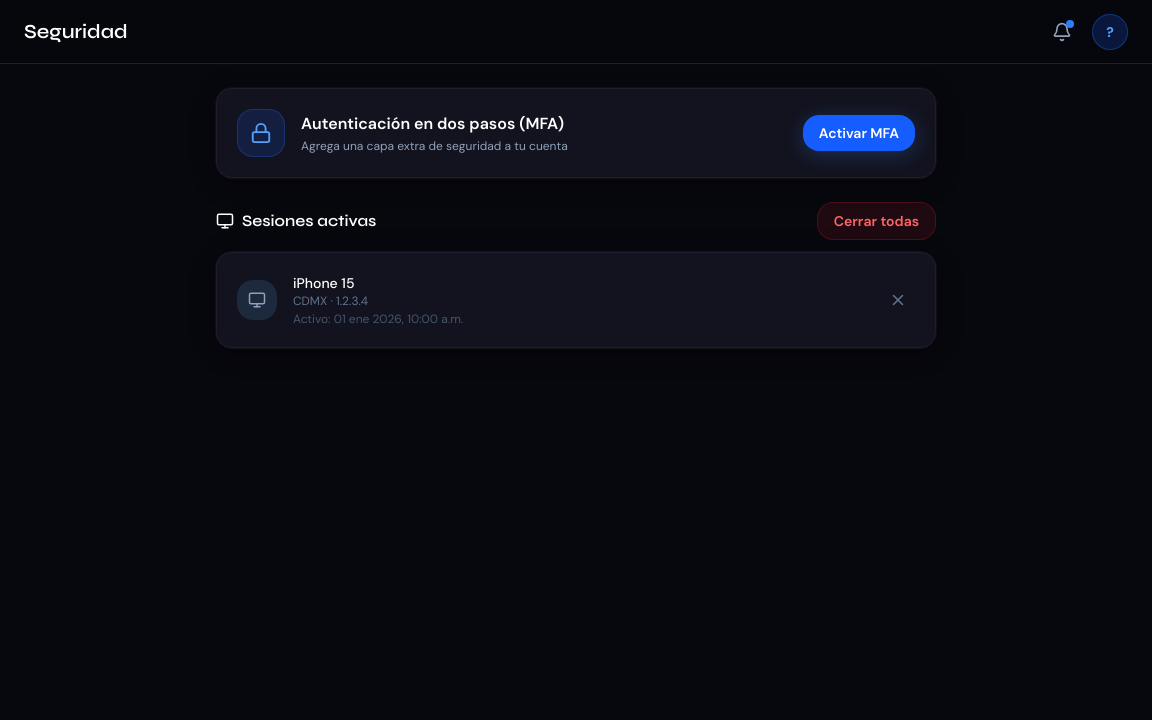
Scenario: SecurityPage › Activar MFA opens the modal and requests a code (which fails today - no backend)
Expected: the text "iPhone 15" is shown, [293,274,354,292]
Step 1. Click the button "Activar MFA" → (859, 133), box [803,115,915,151]
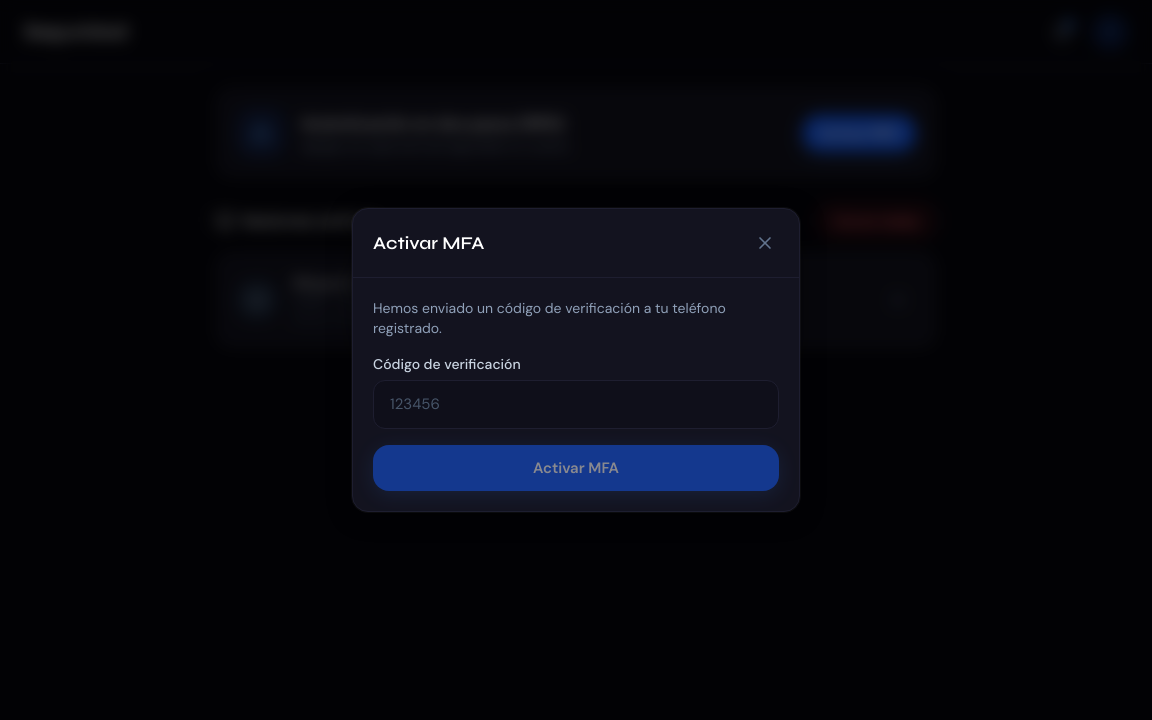
Result: the text "Hemos enviado un código de verificación a tu teléfono registrado." is shown at [373,298,779,338]
